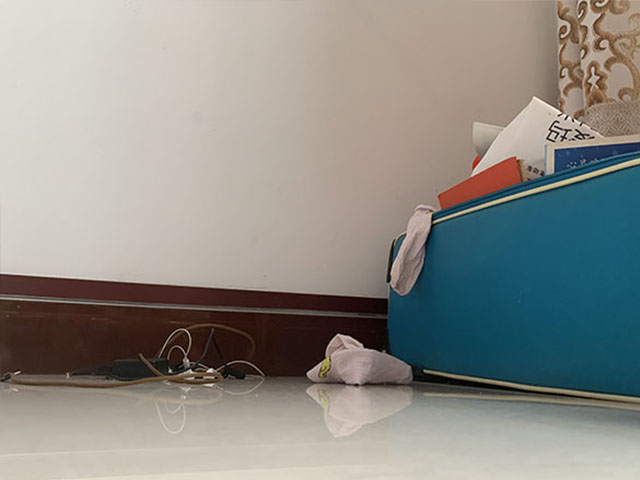socks: (304, 331, 414, 386)
wire: (1, 321, 267, 389)
